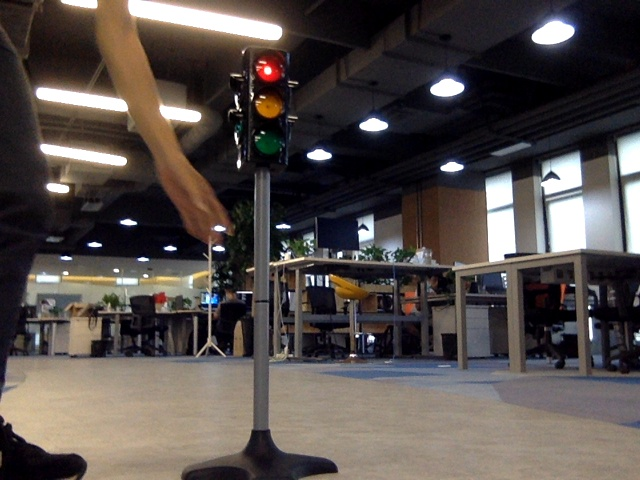red: (250, 53, 285, 158)
